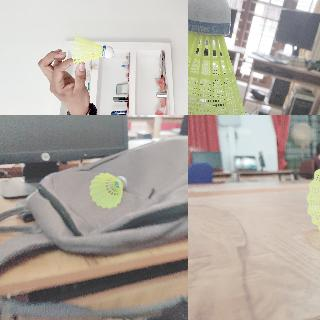shuttlecock: (188, 0, 246, 114), (88, 172, 125, 208), (71, 34, 113, 64)
